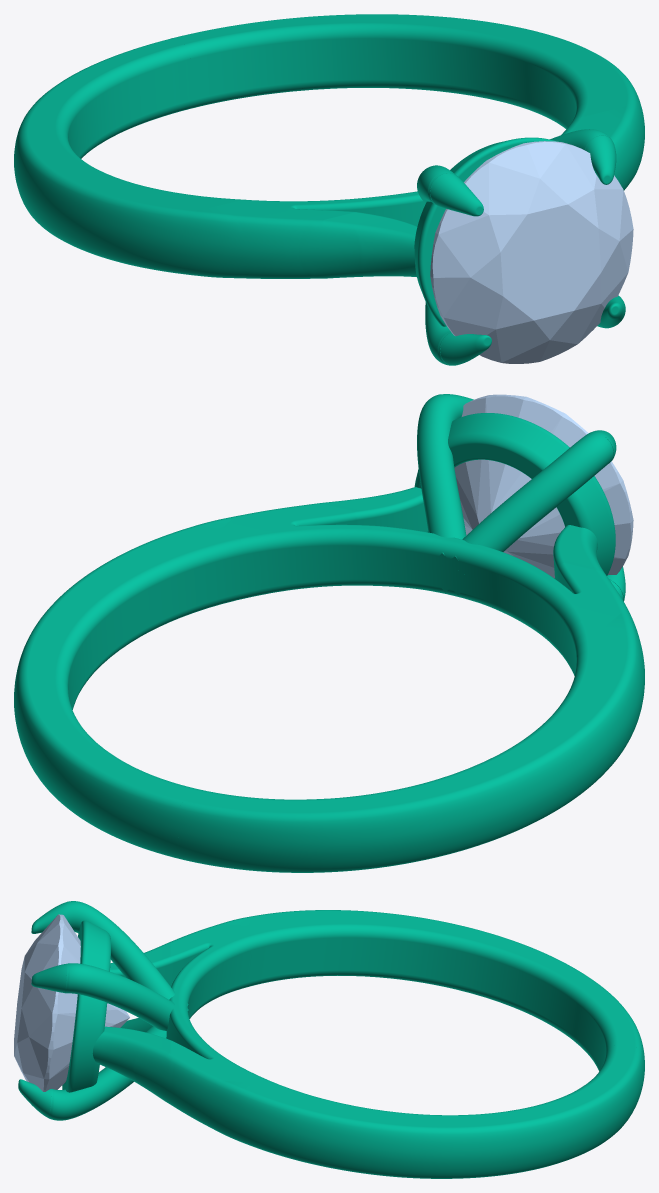
3 renders of one model, top to bottom at view 1: azimuth 30°, elevation 25°; view 2: azimuth 150°, elevation 25°; view 3: azimuth 270°, elevation 25°, orthographic. The views are drawn at different scales.
Visible parts, largest first — view 1: VR410(base).3dm, Diamond_Round; view 2: VR410(base).3dm, Diamond_Round; view 3: VR410(base).3dm, Diamond_Round.
Part boxes in pixels (bbox=[...]): VR410(base).3dm: bbox=[14, 14, 644, 365]; Diamond_Round: bbox=[430, 141, 633, 363]; VR410(base).3dm: bbox=[14, 394, 644, 872]; Diamond_Round: bbox=[454, 394, 633, 578]; VR410(base).3dm: bbox=[18, 901, 644, 1178]; Diamond_Round: bbox=[14, 914, 129, 1091].
Bounding box in the file's own units: 2.49 × 0.9057 × 3.
